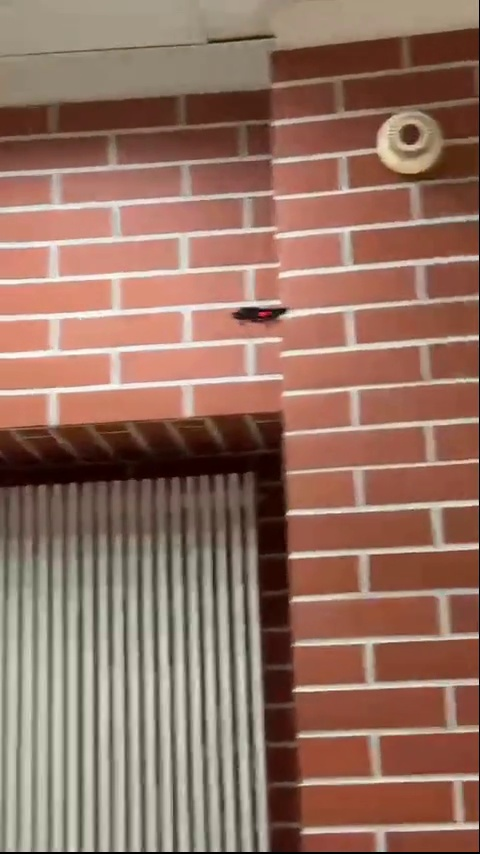drone: (233, 300, 289, 329)
